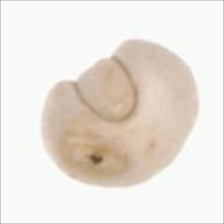L5: (71, 55, 141, 127)
L6: (38, 37, 200, 189)
